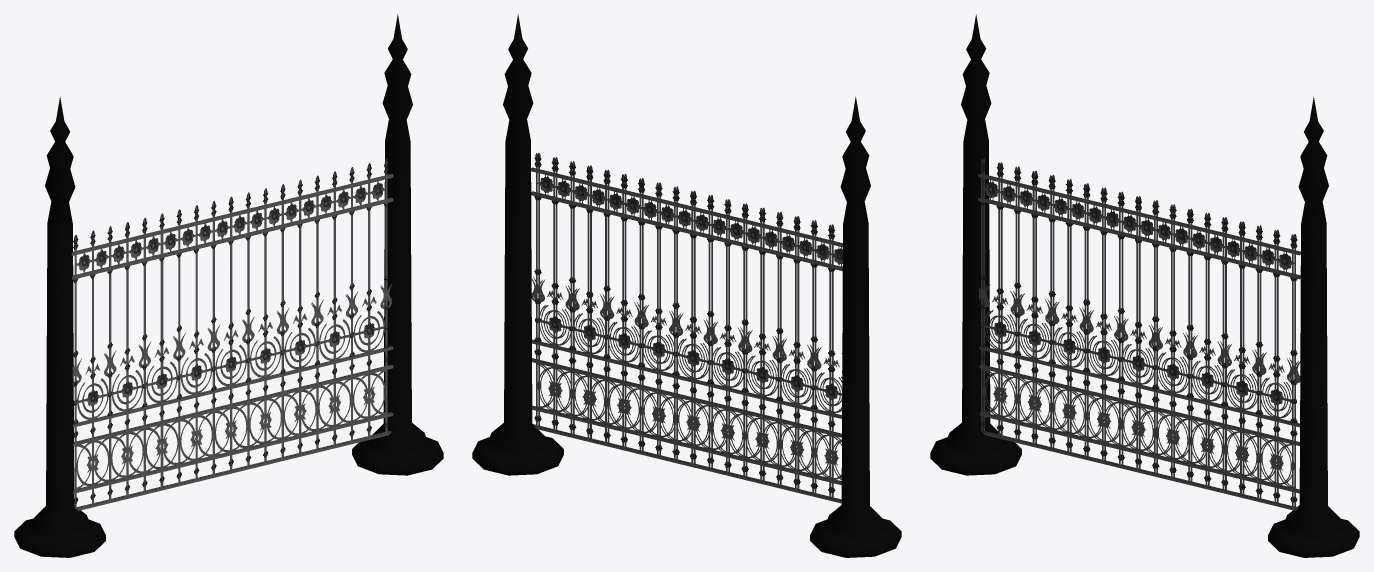
File: DoubleGateFBX.FBX
The picture shows the model from 3 angles, left to right: view 1: azimuth 30°, elevation 25°; view 2: azimuth 150°, elevation 25°; view 3: azimuth 330°, elevation 25°; orthographic projection.
Visible parts, largest first — view 1: Plane003, Cylinder001, Cylinder002, Plane004; view 2: Plane004, Plane003, Cylinder002, Cylinder001; view 3: Plane003, Plane004, Cylinder002, Cylinder001.
Part boxes in pixels (x1,y1,x2,y2): Plane003: [71, 159, 393, 510]; Cylinder001: [14, 96, 105, 557]; Cylinder002: [352, 14, 443, 475]; Plane004: [73, 159, 392, 507]; Plane004: [531, 153, 842, 503]; Plane003: [532, 153, 842, 500]; Cylinder002: [472, 14, 563, 475]; Cylinder001: [810, 96, 901, 557]; Plane003: [978, 158, 1299, 510]; Plane004: [982, 158, 1300, 508]; Cylinder002: [1268, 96, 1359, 557]; Cylinder001: [930, 14, 1021, 475].
Size of the model in its own units: 330 by 335 by 60.12.
Materials: 2 (1 with a texture image).
